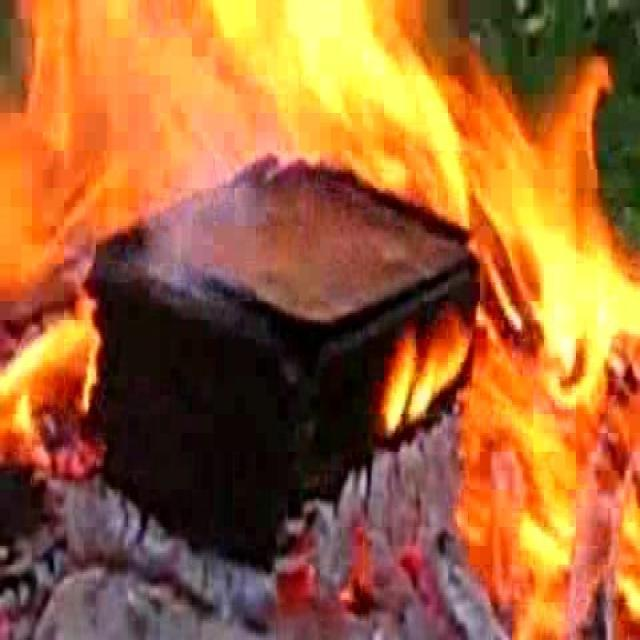Fire: (18, 6, 610, 389)
